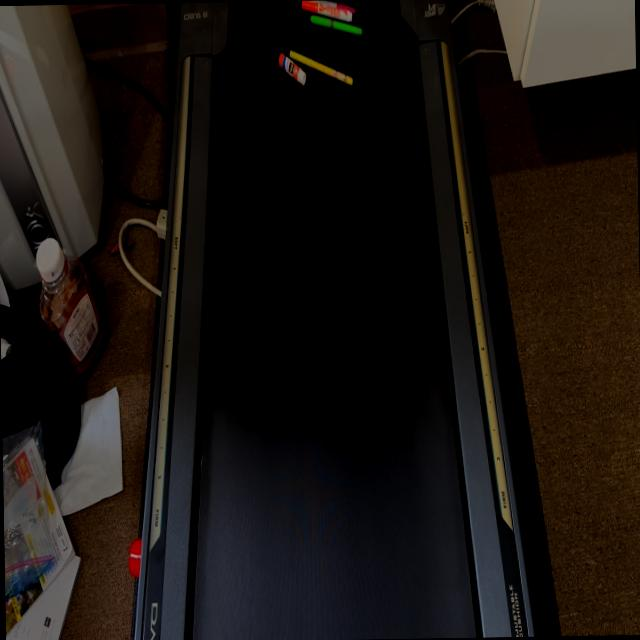Trash: (276, 0, 368, 100)
